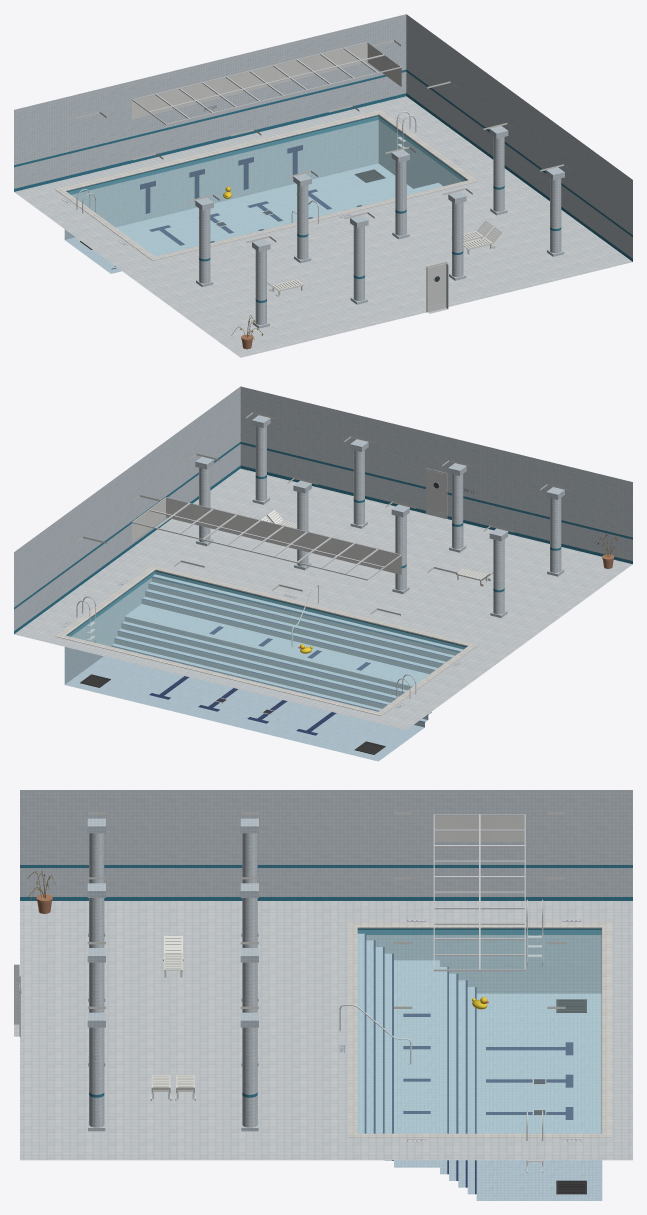
Rendered from sub_pool_06.glb.
3 views of the same model, one above another, from view 1: azimuth 30°, elevation 25°; view 2: azimuth 150°, elevation 25°; view 3: azimuth 270°, elevation 25° (orthographic). The views are drawn at different scales.
Visible parts, largest first — view 1: Tile_Deck, Tile_Wall, Pool_Water, Tile_Pool, Tile_Accent, Ceiling_Paint, Tile_Lip, Chrome, Tile_Trim, Tile_Lane, Plastic_White, DoorLeaf_atrium; view 2: Tile_Wall, Tile_Deck, Tile_Pool, Pool_Water, Ceiling_Paint, Tile_Accent, Tile_Lip, Tile_Lane, Chrome, Tile_Trim, DoorLeaf_atrium, Grate_Iron (+1 smaller); view 3: Tile_Deck, Tile_Wall, Tile_Pool, Pool_Water, Tile_Lip, Tile_Accent, Tile_Lane, Chrome, Ceiling_Paint, Tile_Trim, Plastic_White, Grate_Iron.
Boxes of the visible parts, x1,y1,x2,y2 form: Tile_Deck: (14, 96, 632, 357); Tile_Wall: (14, 14, 632, 324); Pool_Water: (68, 116, 465, 256); Tile_Pool: (64, 120, 462, 273); Tile_Accent: (14, 69, 632, 302); Ceiling_Paint: (76, 40, 570, 243); Tile_Lip: (55, 110, 478, 260); Chrome: (76, 42, 416, 227); Tile_Trim: (195, 126, 564, 328); Tile_Lane: (111, 145, 361, 269); Plastic_White: (267, 220, 502, 296); DoorLeaf_atrium: (427, 263, 446, 312); Tile_Wall: (14, 386, 632, 630); Tile_Deck: (14, 468, 632, 729); Tile_Pool: (64, 574, 463, 761); Pool_Water: (68, 571, 465, 711); Ceiling_Paint: (76, 412, 570, 615); Tile_Accent: (14, 442, 632, 652); Tile_Lip: (55, 565, 478, 715); Tile_Lane: (111, 576, 460, 735); Chrome: (76, 497, 416, 714); Tile_Trim: (195, 415, 564, 617); DoorLeaf_atrium: (427, 470, 445, 518); Grate_Iron: (80, 674, 385, 754); Tile_Deck: (14, 901, 632, 1160); Tile_Wall: (14, 790, 632, 1127); Tile_Pool: (357, 933, 602, 1200); Pool_Water: (358, 930, 601, 1133); Tile_Lip: (348, 922, 611, 1137); Tile_Accent: (20, 865, 632, 1097); Tile_Lane: (364, 933, 573, 1194); Chrome: (338, 814, 546, 1172); Ceiling_Paint: (87, 812, 565, 1008); Tile_Trim: (87, 818, 258, 1131); Plastic_White: (150, 935, 195, 1100); Grate_Iron: (534, 999, 586, 1194).
Bounding box in the file's own units: 20.01 × 7.4 × 20.2.
Materials: 21 (10 with a texture image).
